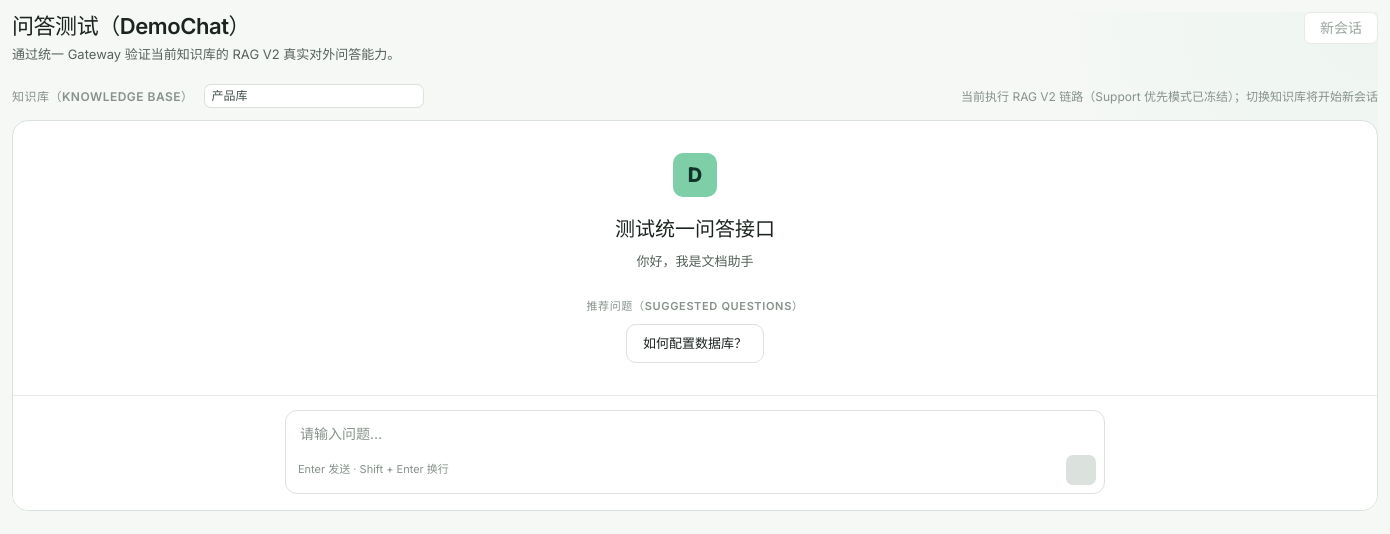
Test case: DemoChat › clicking a suggested question sends it directly
Click the button with class "suggestion-chip": x=695, y=343 [626,324,764,363]
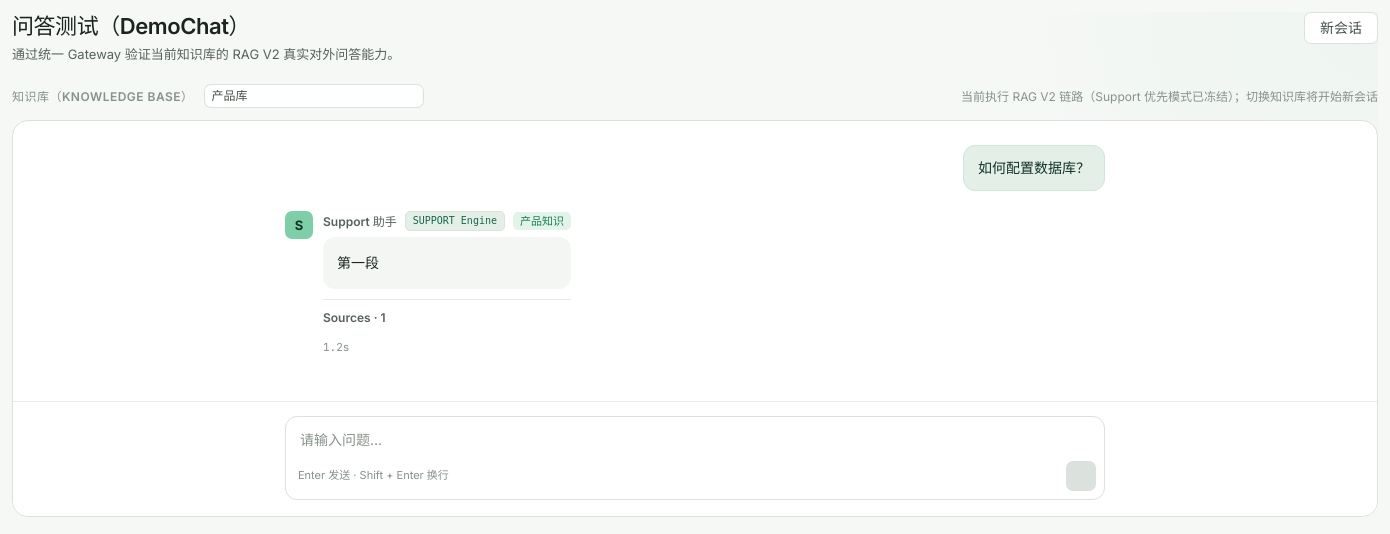
Expected: the text "如何配置数据库？" is shown, [963,145,1105,191]
Result: the text "第一段" is shown at [337,254,379,271]
